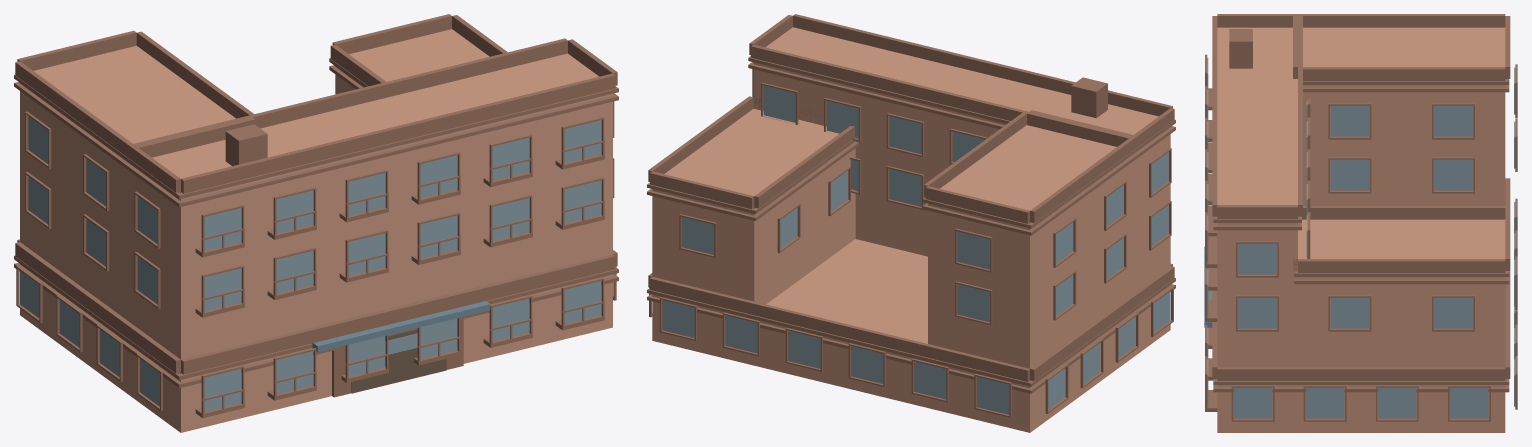
File: residential_3x2_court.glb
3 views of the same model, side by side, from view 1: azimuth 30°, elevation 25°; view 2: azimuth 150°, elevation 25°; view 3: azimuth 270°, elevation 25° (orthographic). The views are drawn at different scales.
Parts seen in each view (by area): view 1: residential_3x2_court_0; view 2: residential_3x2_court_0; view 3: residential_3x2_court_0.
Part boxes in pixels (box(x1,y1,x2,y2)): residential_3x2_court_0: box(14, 14, 618, 432); residential_3x2_court_0: box(647, 14, 1175, 432); residential_3x2_court_0: box(1204, 14, 1517, 432).
Bounding box in the file's own units: 23.74 × 13.5 × 15.77.
